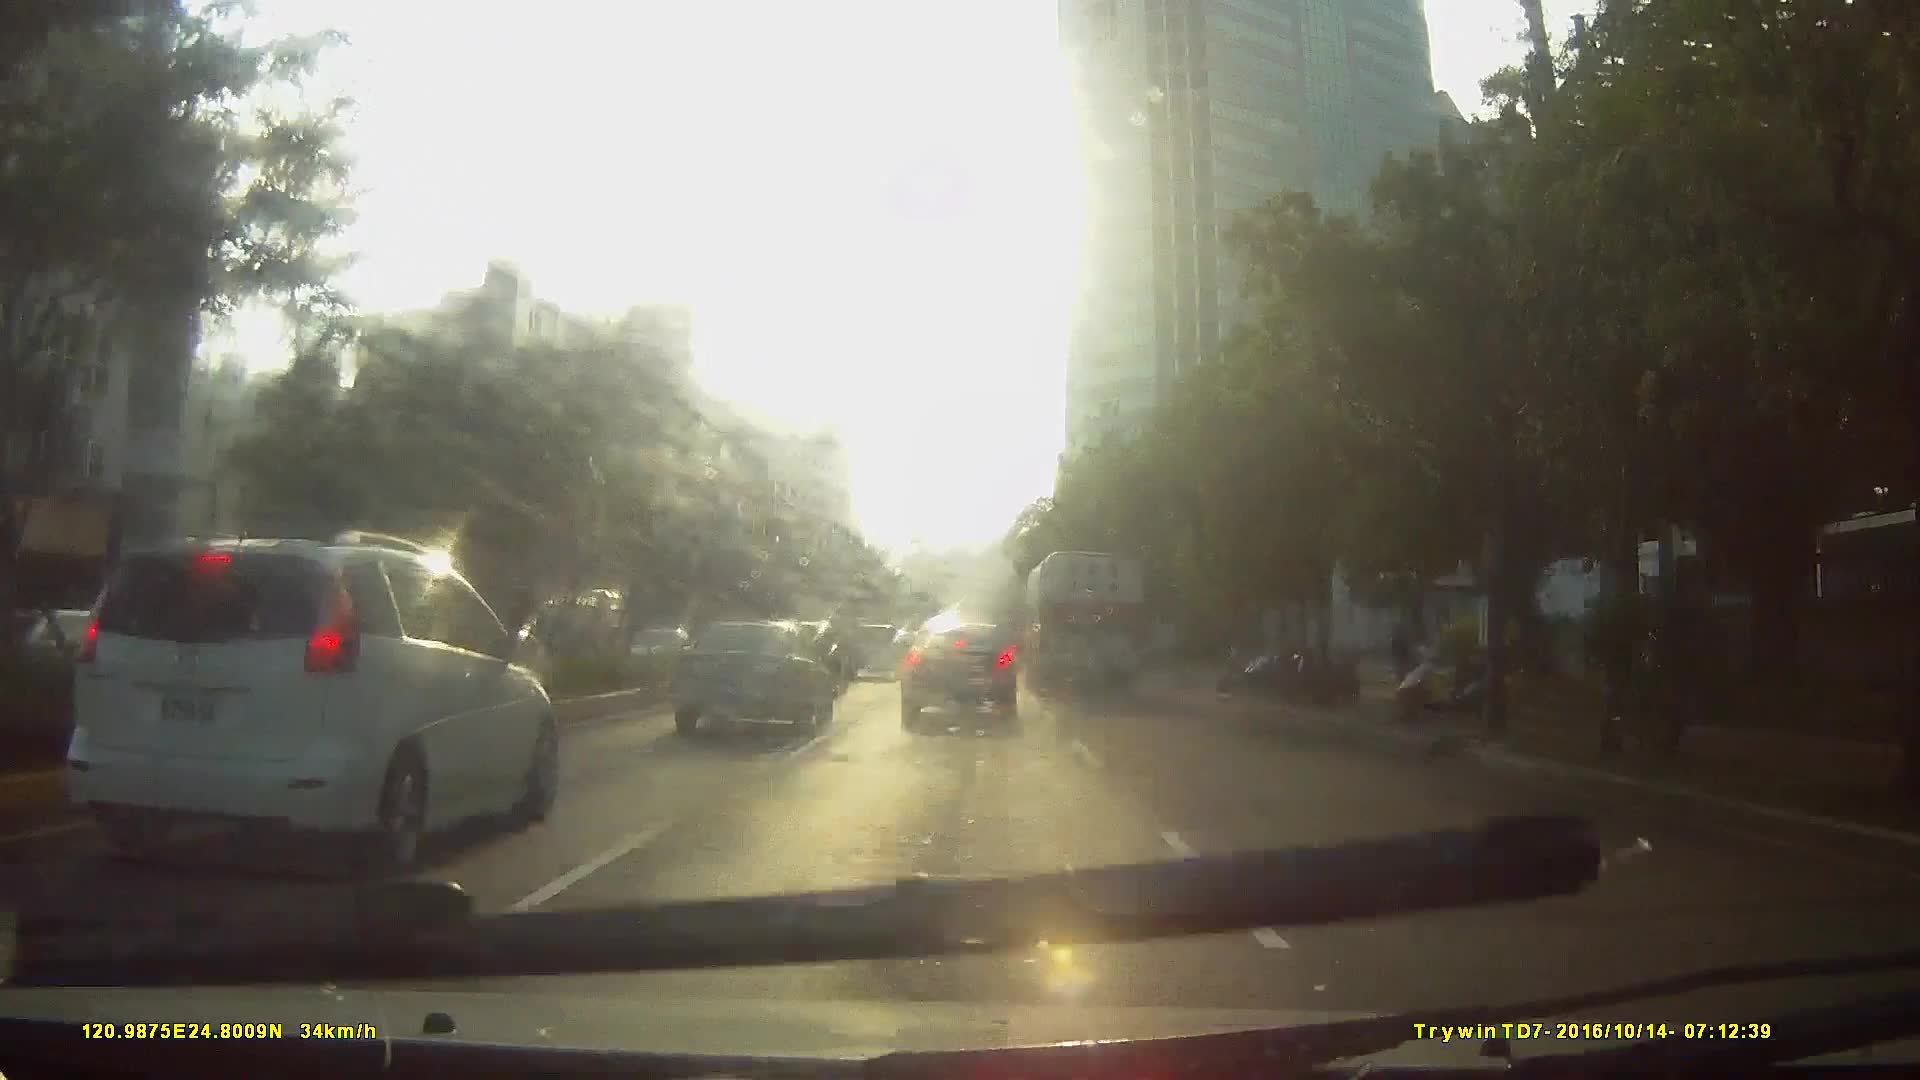pedestrian: (1387, 608, 1412, 697)
vehicle: (67, 515, 563, 880), (250, 556, 684, 868), (661, 613, 830, 735), (1021, 539, 1144, 692), (896, 617, 1020, 717), (520, 581, 619, 667), (844, 619, 903, 679)
